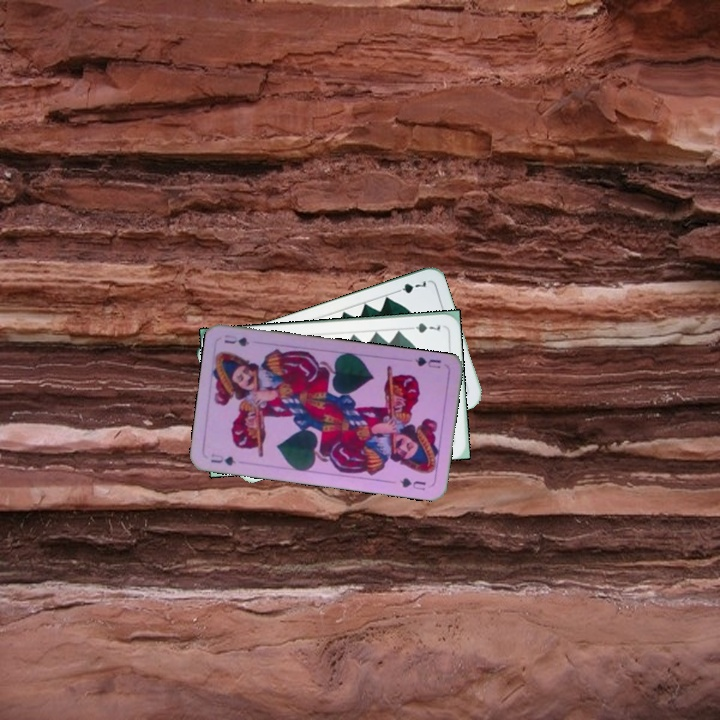G7: (390, 277, 431, 296), (404, 319, 443, 335)
GU: (411, 353, 444, 371), (207, 450, 238, 468)
